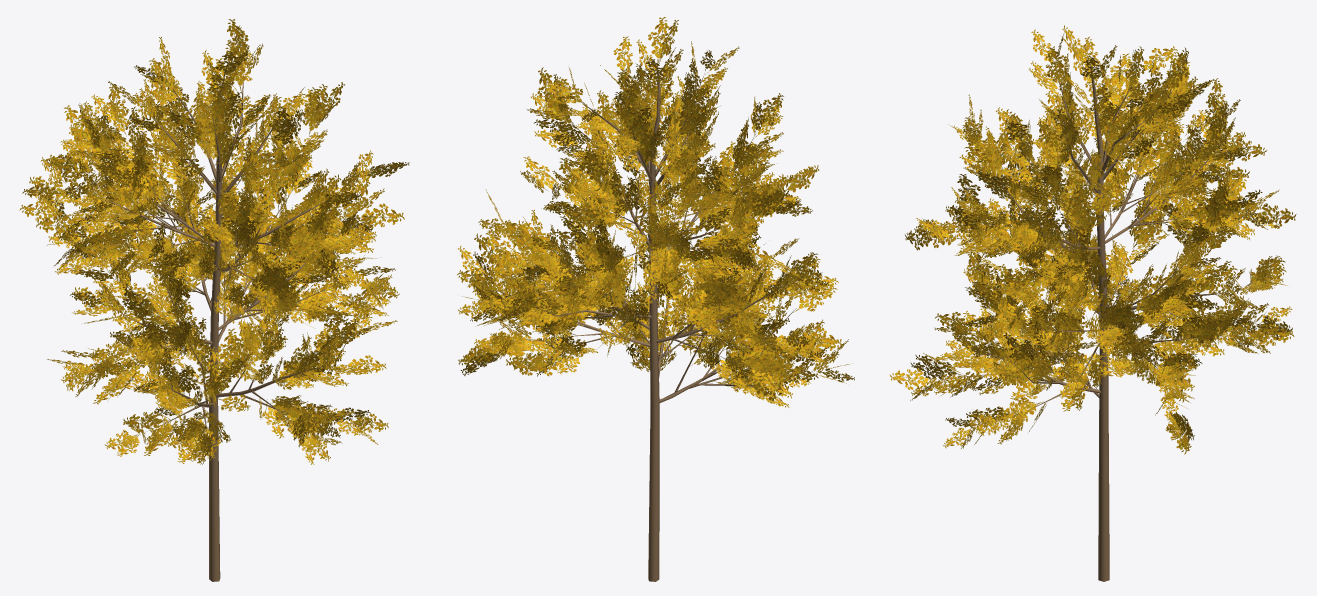
The model's file is tree1_lod1.glb.
The picture shows the model from 3 angles, left to right: view 1: azimuth 30°, elevation 25°; view 2: azimuth 150°, elevation 25°; view 3: azimuth 270°, elevation 25°; orthographic projection.
Visible parts, largest first — view 1: leaves, trunk; view 2: leaves, trunk; view 3: leaves, trunk.
Boxes of the visible parts, x1,y1,x2,y2 form: leaves: (19, 19, 409, 464); trunk: (93, 72, 355, 581); leaves: (457, 17, 854, 407); trunk: (500, 59, 801, 581); leaves: (889, 25, 1296, 454); trunk: (941, 64, 1242, 581).
Bounding box in the file's own units: 0.6526 × 1 × 0.6797.
2 materials, 1 textured.
